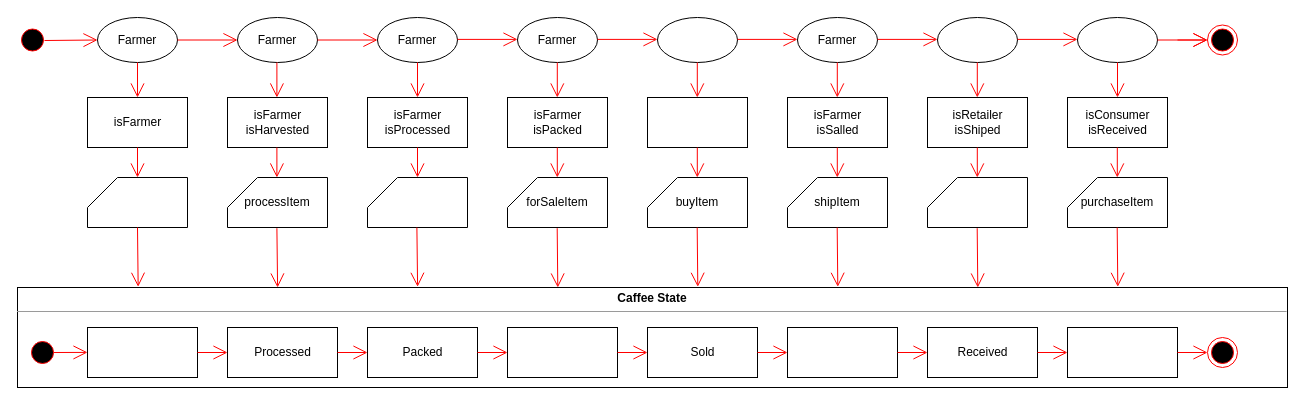
Some shapes in this 1305 by 405 pixel diagram are drawn without their labels. The centre of each missing label's shape, as x and y in pixels:
"Consumer" goes at point 1117,39.
"Distributor" goes at point 697,39.
"ForSale" goes at point 562,352.
"Harvested" goes at point 142,352.
"harvestItem" goes at point 137,202.
"isDistibutor isForSale" goes at point 697,122.
"packItem" goes at point 417,202.
"Purchased" goes at point 1122,352.
"receiveItem" goes at point 977,202.
"Retailer" goes at point 977,39.
"Shipped" goes at point 842,352.
